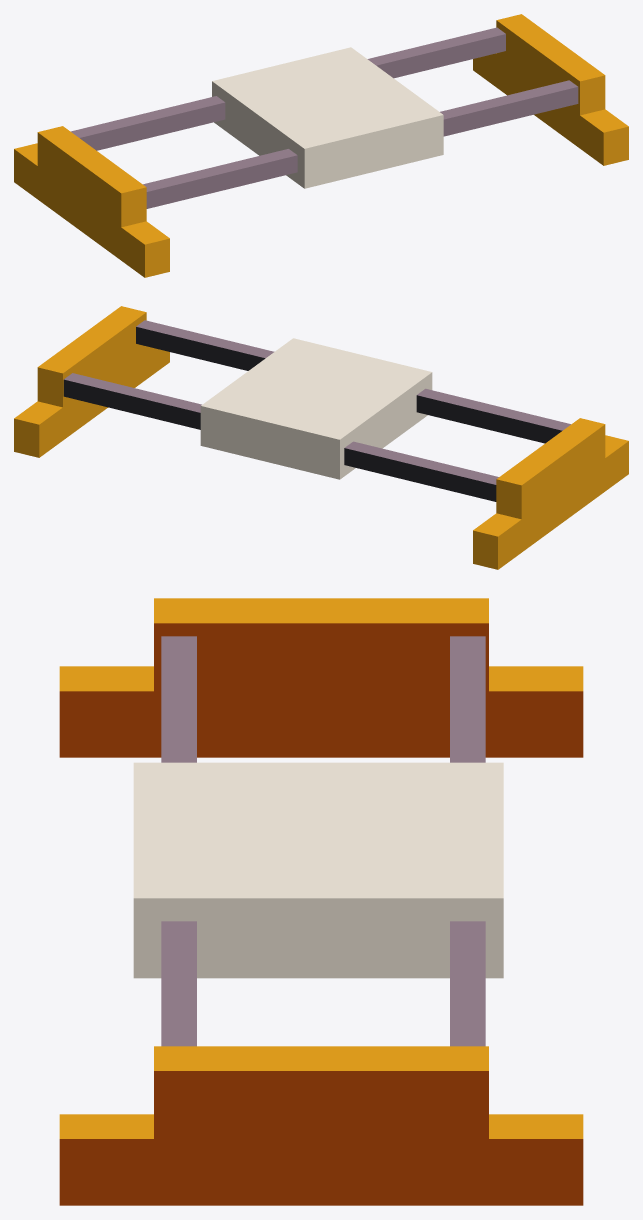
Rendered from CrainBigPart3.fbx.
The picture shows the model from 3 angles, top to bottom: view 1: azimuth 30°, elevation 25°; view 2: azimuth 150°, elevation 25°; view 3: azimuth 270°, elevation 25°; orthographic projection. The views are drawn at different scales.
Parts seen in each view (by area): view 1: CrainBigPart3; view 2: CrainBigPart3; view 3: CrainBigPart3.
Part boxes in pixels (x1=…): CrainBigPart3: x1=14, y1=14, x2=628, y2=277; CrainBigPart3: x1=14, y1=306, x2=628, y2=569; CrainBigPart3: x1=59, y1=598, x2=583, y2=1205.
Size of the model in its own units: 54.26 by 7.72 by 25.4.
